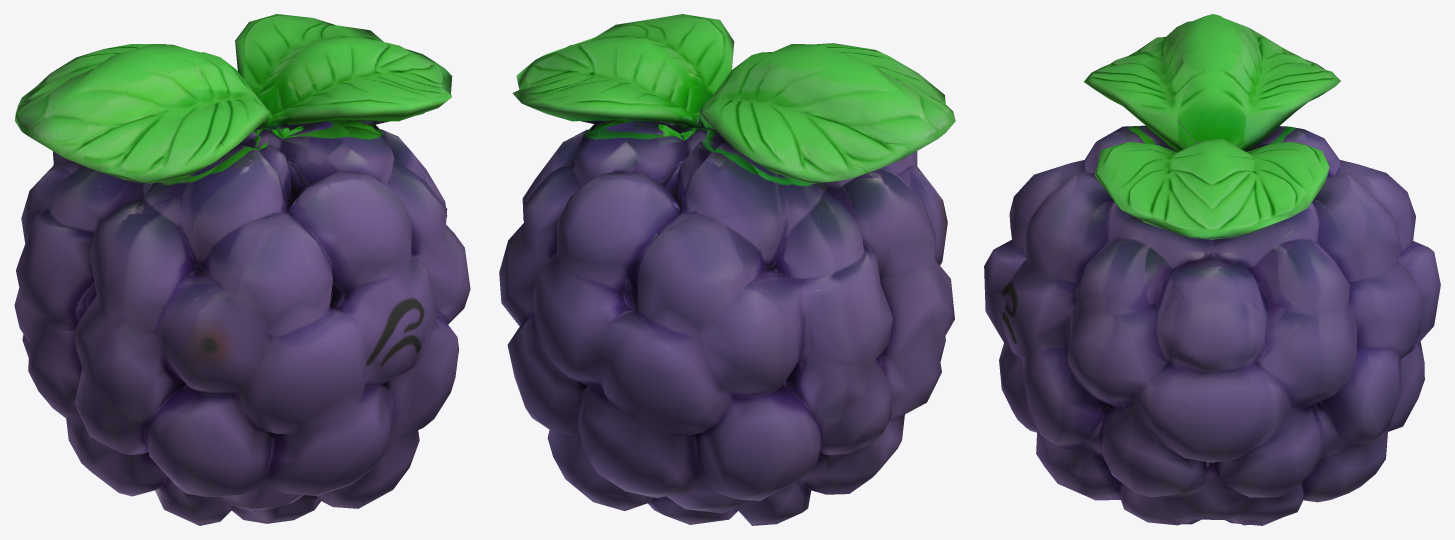
The model's file is Meshy_AI_Cartoon_hyper_casual__0109102650_texture.fbx.
3 renders of one model, left to right at view 1: azimuth 30°, elevation 25°; view 2: azimuth 150°, elevation 25°; view 3: azimuth 270°, elevation 25°, orthographic. The views are drawn at different scales.
Visible parts, largest first — view 1: Mesh1.0; view 2: Mesh1.0; view 3: Mesh1.0.
Part boxes in pixels (box(x1,y1,x2,y2)): Mesh1.0: box(14, 14, 470, 525); Mesh1.0: box(499, 14, 955, 525); Mesh1.0: box(984, 14, 1440, 525).
Bounding box in the file's own units: 180 × 193 × 187.
Materials: 1 (1 with a texture image).
